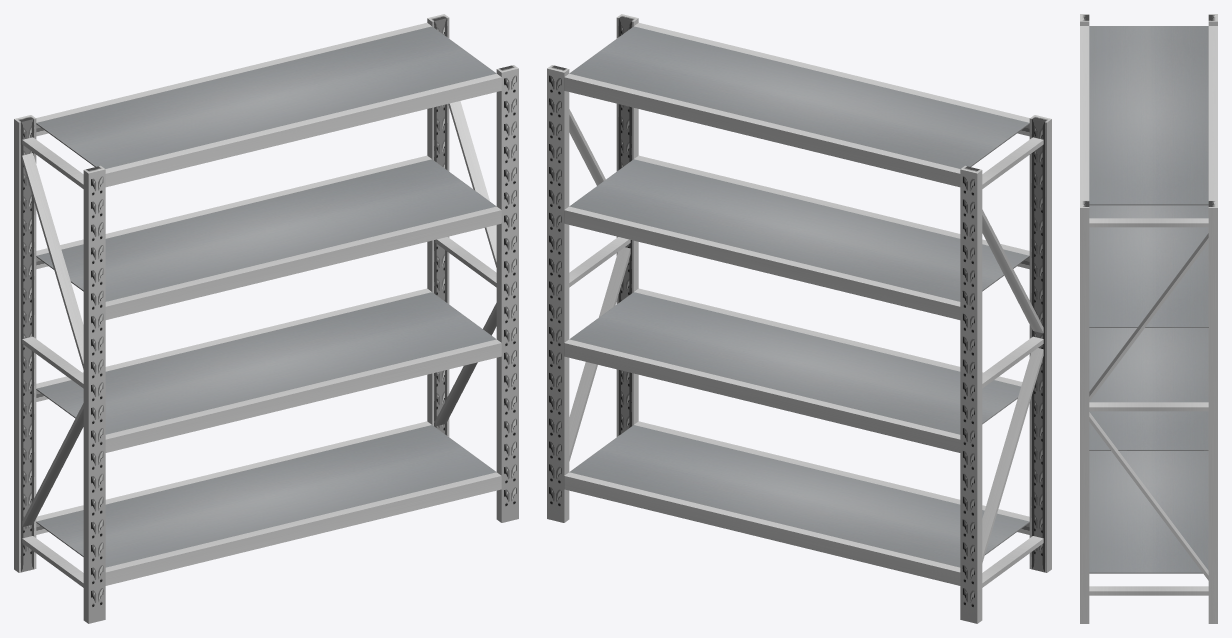
Rendered from BAISE_SI.obj.
3 views of the same model, side by side, from view 1: azimuth 30°, elevation 25°; view 2: azimuth 150°, elevation 25°; view 3: azimuth 270°, elevation 25° (orthographic). The views are drawn at different scales.
Visible parts, largest first — view 1: Mesh11; view 2: Mesh11; view 3: Mesh11.
Part boxes in pixels (bbox=[...]): Mesh11: bbox=[14, 14, 518, 623]; Mesh11: bbox=[547, 14, 1051, 623]; Mesh11: bbox=[1080, 14, 1217, 623].
Size of the model in its own units: 2000 by 2000 by 600.
Materials: 1 (1 with a texture image).
